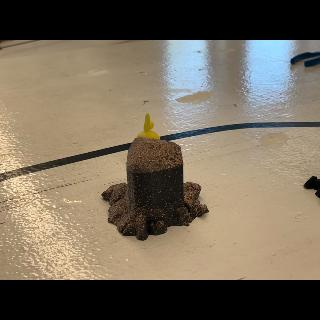teletubby: (137, 113, 160, 139)
